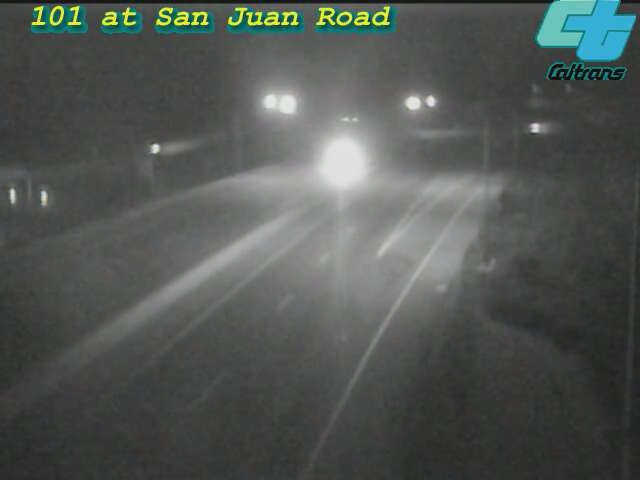vehicle: (299, 123, 379, 203), (516, 104, 566, 154)
